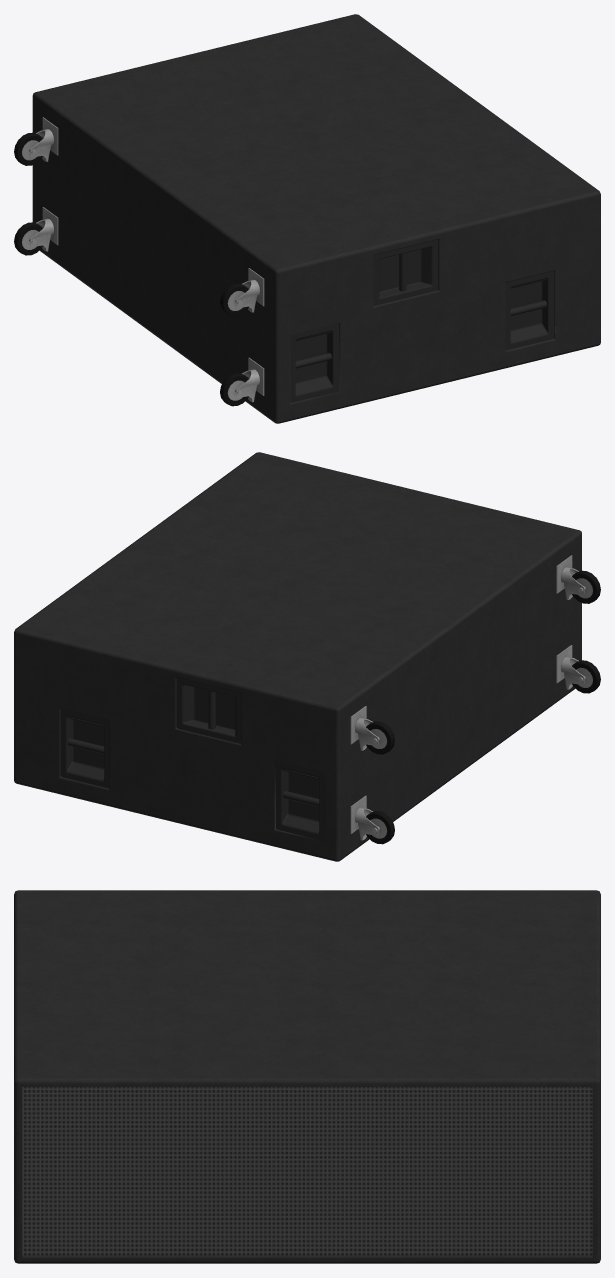
Rendered from SM_Speaker_02.fbx.
3 renders of one model, top to bottom at view 1: azimuth 30°, elevation 25°; view 2: azimuth 150°, elevation 25°; view 3: azimuth 270°, elevation 25°, orthographic. The views are drawn at different scales.
Parts seen in each view (by area): view 1: SM_Speaker_02_LOD0; view 2: SM_Speaker_02_LOD0; view 3: SM_Speaker_02_LOD0.
Boxes of the visible parts, x1,y1,x2,y2 form: SM_Speaker_02_LOD0: (14,14,600,423); SM_Speaker_02_LOD0: (14,452,600,861); SM_Speaker_02_LOD0: (14,890,600,1263).
Size of the model in its own units: 111 by 130 by 45.33.
1 material, 1 textured.
